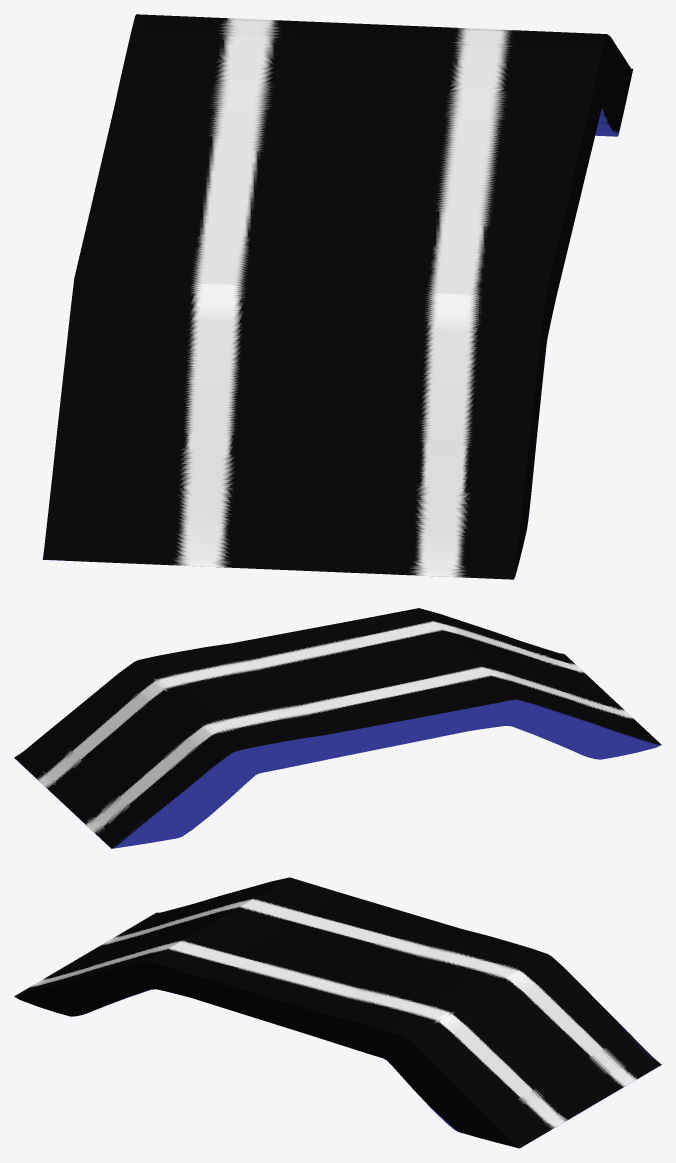
Rendered from bridge.gltf.
3 views of the same model, one above another, from view 1: azimuth 30°, elevation 25°; view 2: azimuth 150°, elevation 25°; view 3: azimuth 270°, elevation 25° (orthographic). The views are drawn at different scales.
Bounding box in the file's own units: 1.09 × 0.1748 × 1.26.
1 material, 1 textured.
